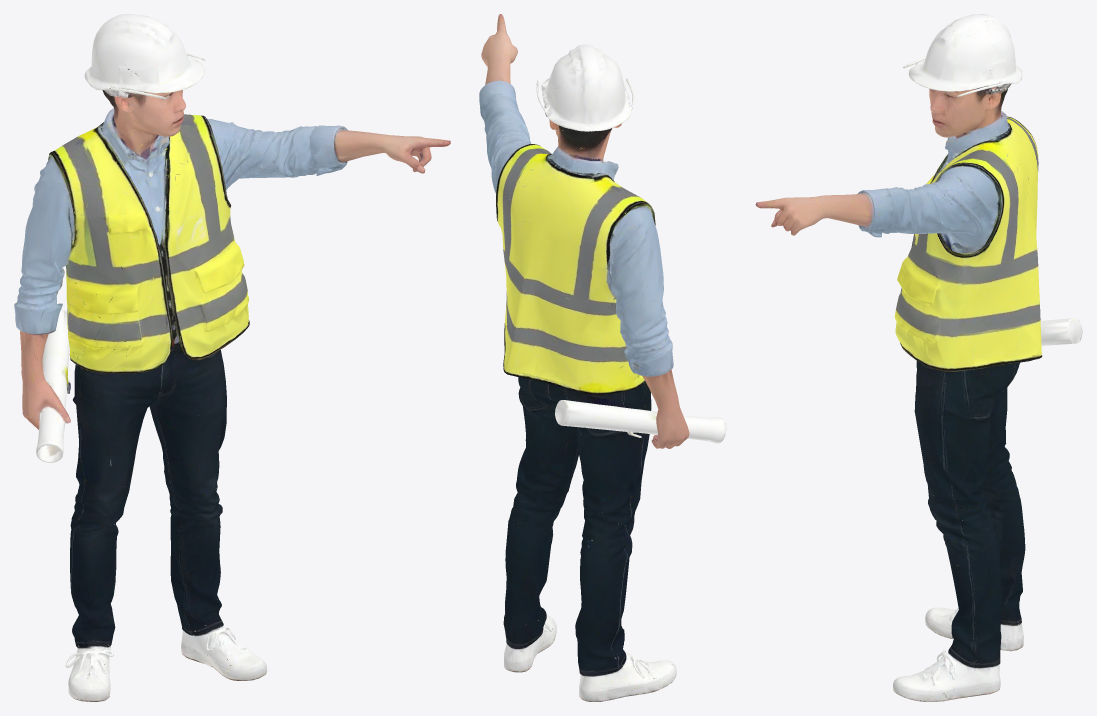
Rendered from worker-pointing.glb.
The picture shows the model from 3 angles, left to right: view 1: azimuth 30°, elevation 25°; view 2: azimuth 150°, elevation 25°; view 3: azimuth 270°, elevation 25°; orthographic projection. The views are drawn at different scales.
Parts seen in each view (by area): view 1: Object_5, Object_6, Object_8, Object_7; view 2: Object_7, Object_6, Object_8, Object_5; view 3: Object_7, Object_6, Object_5, Object_8.
Part boxes in pixels (<box>): Object_5: <box>36,21,450,701</box>; Object_6: <box>14,14,267,696</box>; Object_8: <box>23,14,250,701</box>; Object_7: <box>14,15,240,691</box>; Object_7: <box>494,50,675,701</box>; Object_6: <box>487,49,715,701</box>; Object_8: <box>491,44,699,689</box>; Object_5: <box>479,14,726,680</box>; Object_7: <box>942,15,1082,698</box>; Object_6: <box>894,14,1030,701</box>; Object_5: <box>755,19,984,701</box>; Object_8: <box>914,14,989,694</box>.
Size of the model in its own units: 0.984 by 1.9 by 0.8778.
1 material, 1 textured.
